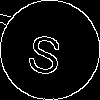S: (25, 25, 67, 76)
